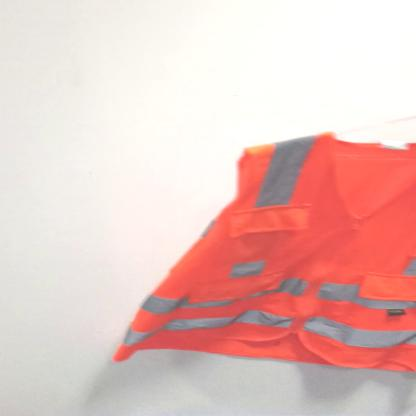colete: (102, 134, 416, 382)
